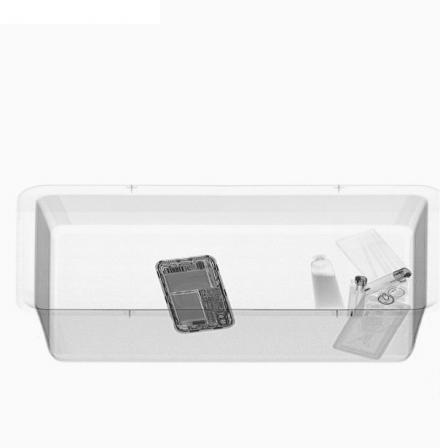Lighter: (357, 268, 415, 295), (343, 275, 370, 318)
